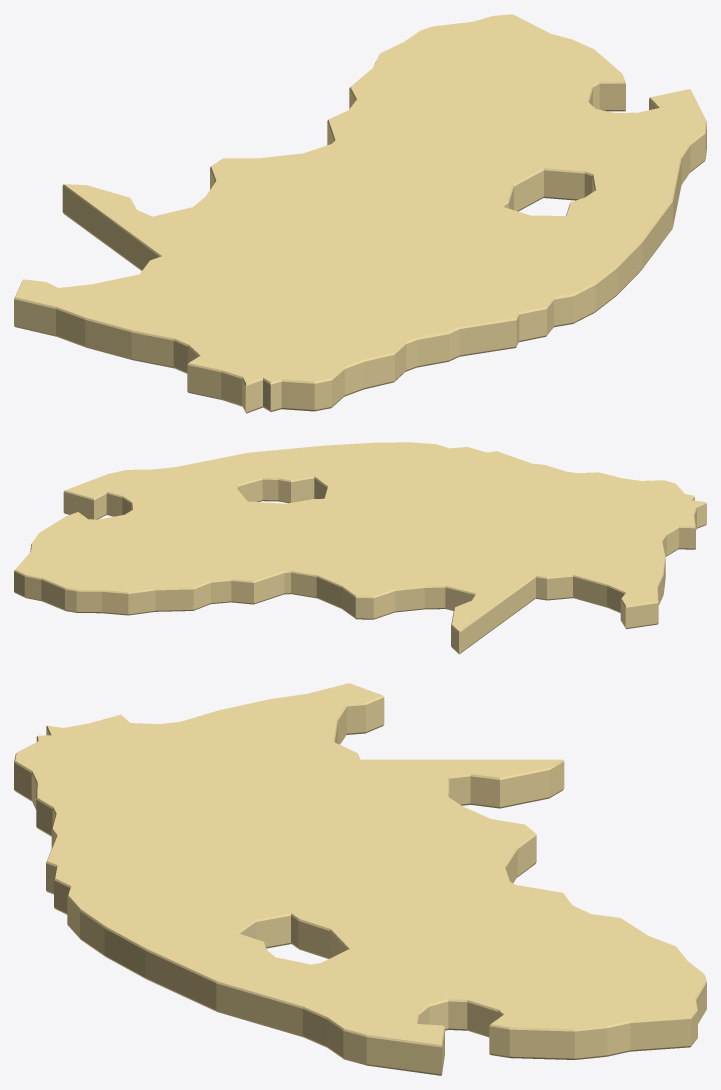
Rendered from ZAF.glb.
The picture shows the model from 3 angles, top to bottom: view 1: azimuth 30°, elevation 25°; view 2: azimuth 150°, elevation 25°; view 3: azimuth 270°, elevation 25°; orthographic projection. The views are drawn at different scales.
Size of the model in its own units: 1.72 by 0.068 by 1.39.
